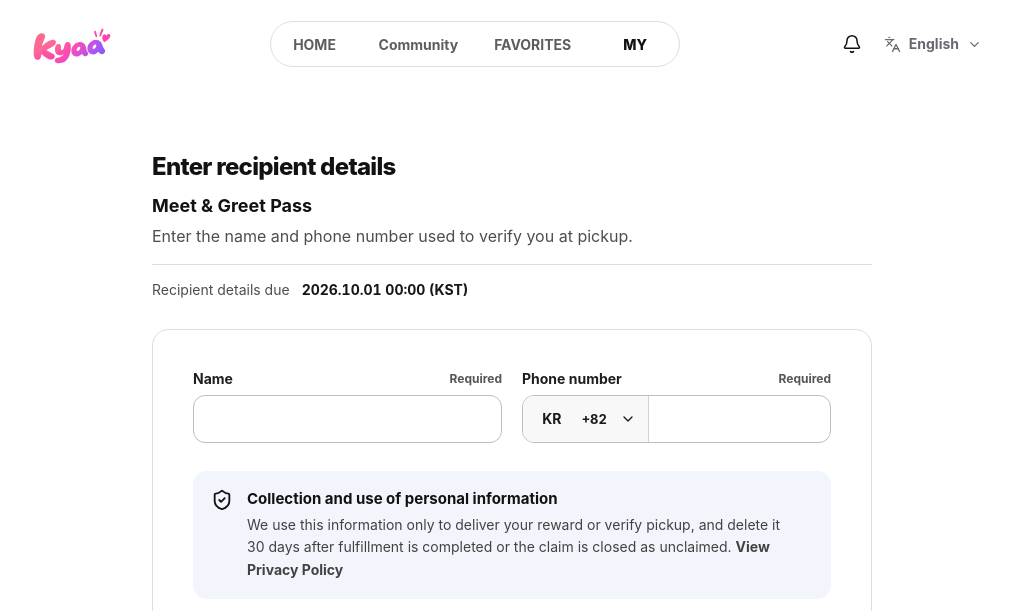
Test: Benefit recipient screen › supports a US contact for on-site pickup without shipping fields
The width and height of the screenshot is (1024, 611).
Type "Alex Kim" into the field labelled "Name Required".
click(348, 419); type("Alex Kim")  # box [193,395,502,443]
Click the dropdown named "Country calling code".
click(586, 419)  # box [523,396,649,442]
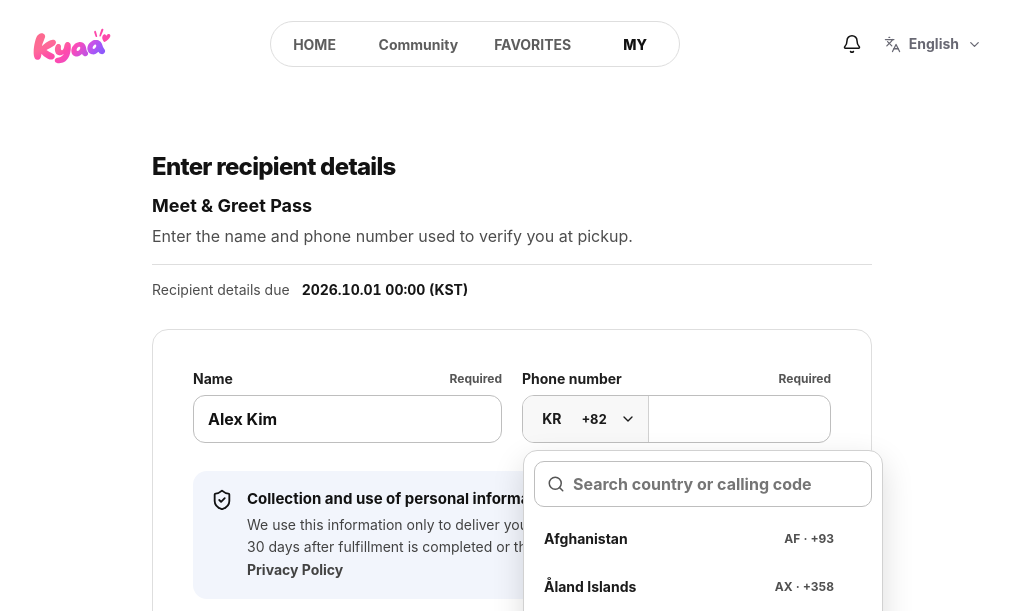
Type "United States" into the field with placeholder "Search country or calling code".
click(716, 484); type("United States")  # box [573,462,859,506]
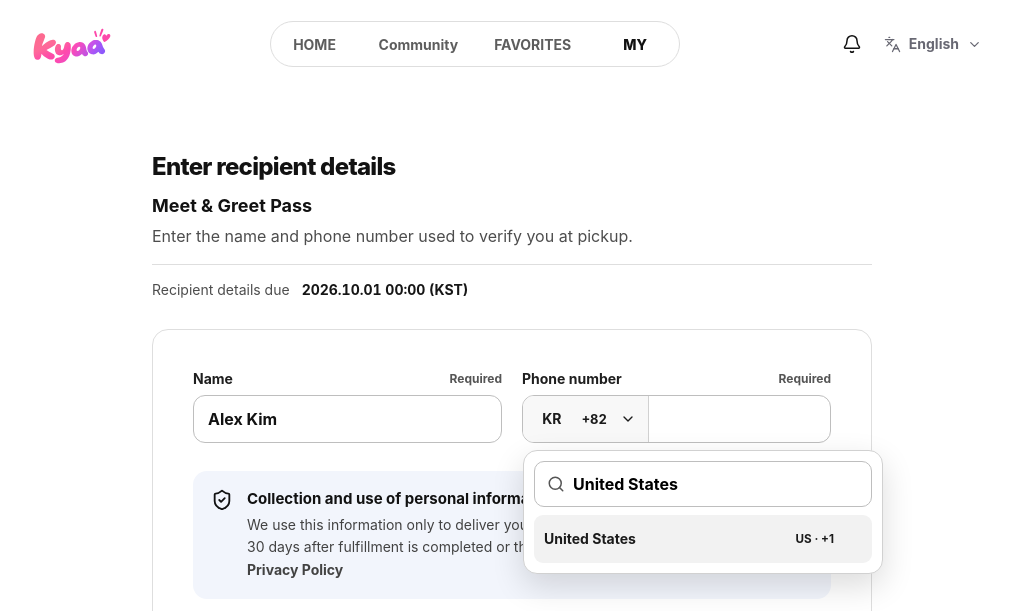
Click the option named "United StatesUS · +1".
click(590, 539)  # box [534,515,872,563]
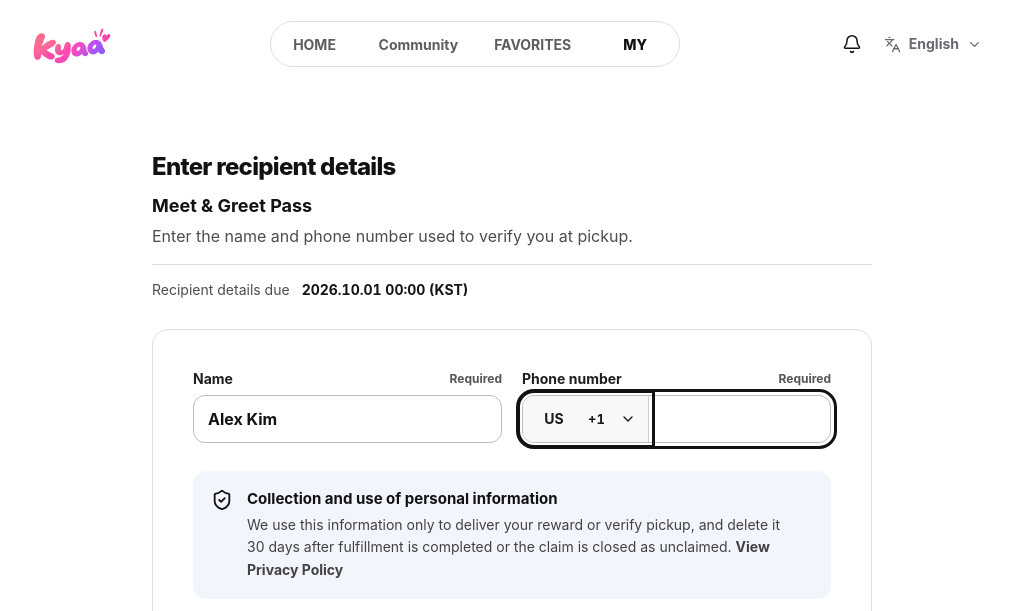
Type "2133734253" into the field labelled "Phone number Required".
click(740, 419); type("2133734253")  # box [649,396,830,442]
(page scrolled)
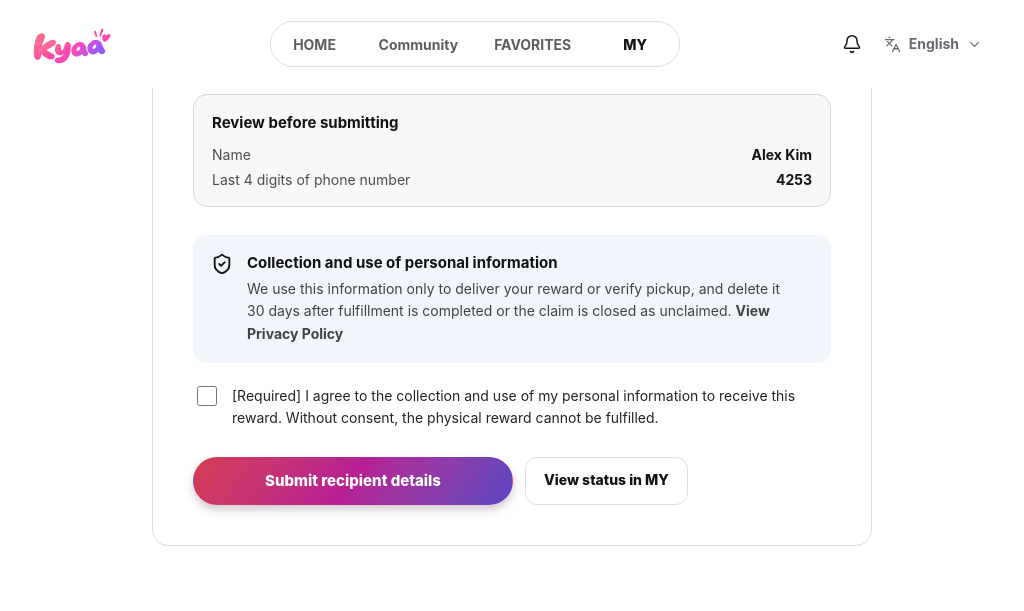
Click the checkbox.
click(207, 396)  # box [197,386,217,406]
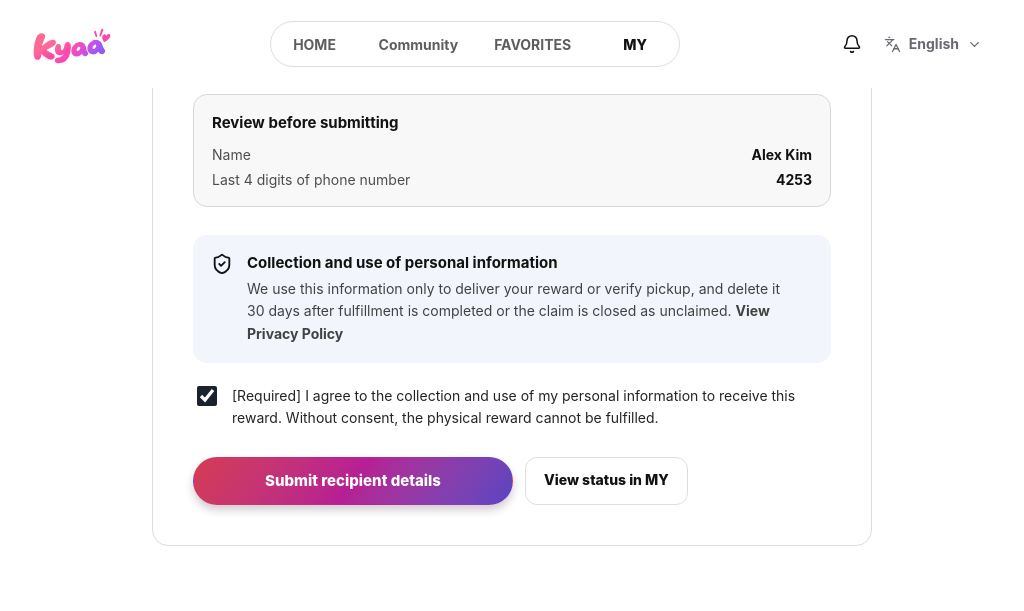
Click the button "Submit recipient details".
click(353, 480)  # box [193,456,513,504]
(page scrolled)
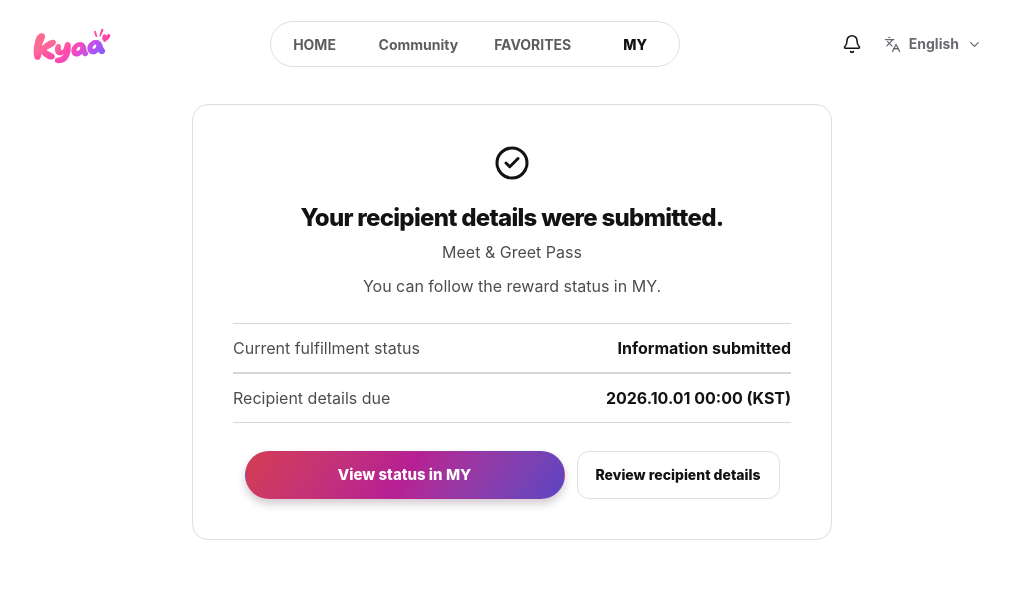
Check: the heading "Your recipient details were submitted." is shown, box [300,203,724,232]
